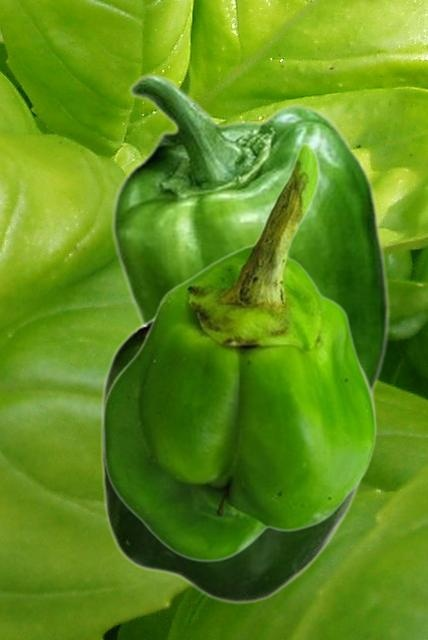bell_pepper: (101, 141, 376, 561), (110, 73, 390, 391), (99, 315, 375, 604)
